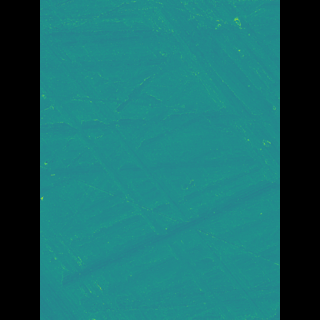Loch: (68, 20, 240, 319), (140, 0, 250, 184)
